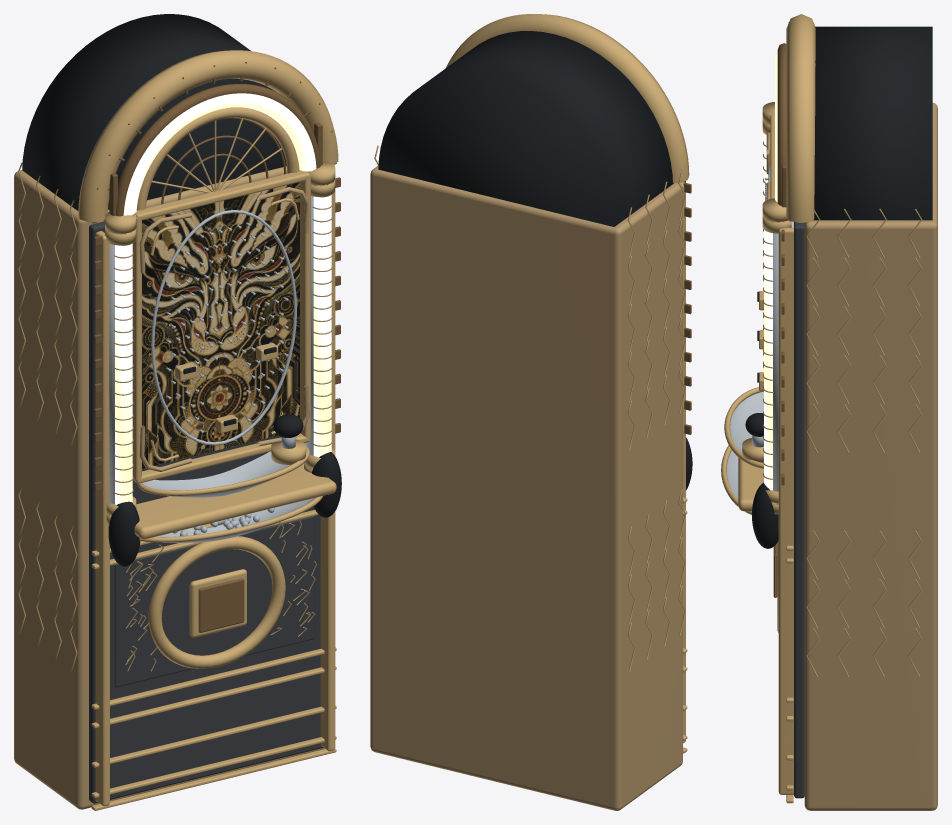
Rendered from numa-pachinko.glb.
3 renders of one model, left to right at view 1: azimuth 30°, elevation 25°; view 2: azimuth 150°, elevation 25°; view 3: azimuth 270°, elevation 25°, orthographic.
Visible parts, largest first — view 1: machine-gold, machine-satin-gold, machine-gunmetal, machine-Kabuki lacquer inlay, machine-lacquer, machine-lamp, machine-chrome, machine-dark-gold; view 2: machine-satin-gold, machine-lacquer, machine-gold, machine-dark-gold; view 3: machine-satin-gold, machine-lacquer, machine-gold, machine-gunmetal, machine-chrome, machine-lamp, machine-dark-gold.
Boxes of the visible parts, left/top/right/bottom form: machine-gold: left=18, top=50, right=338, bottom=810; machine-satin-gold: left=14, top=166, right=332, bottom=809; machine-gunmetal: left=89, top=221, right=323, bottom=803; machine-Kabuki lacquer inlay: left=142, top=182, right=299, bottom=468; machine-lacquer: left=22, top=14, right=341, bottom=566; machine-lamp: left=115, top=93, right=331, bottom=504; machine-chrome: left=109, top=196, right=314, bottom=542; machine-dark-gold: left=91, top=62, right=340, bottom=632; machine-satin-gold: left=370, top=165, right=682, bottom=810; machine-lacquer: left=378, top=31, right=692, bottom=490; machine-gold: left=374, top=14, right=689, bottom=753; machine-dark-gold: left=683, top=182, right=691, bottom=434; machine-satin-gold: left=763, top=102, right=937, bottom=810; machine-lacquer: left=745, top=26, right=932, bottom=548; machine-gold: left=721, top=14, right=922, bottom=803; machine-gunmetal: left=794, top=222, right=804, bottom=798; machine-chrome: left=727, top=167, right=793, bottom=498; machine-lamp: left=764, top=52, right=777, bottom=490; machine-dark-gold: left=773, top=22, right=789, bottom=597.
Bounding box in the file's own units: 2.76 × 7.45 × 2.02.
Materials: 8 (1 with a texture image).
